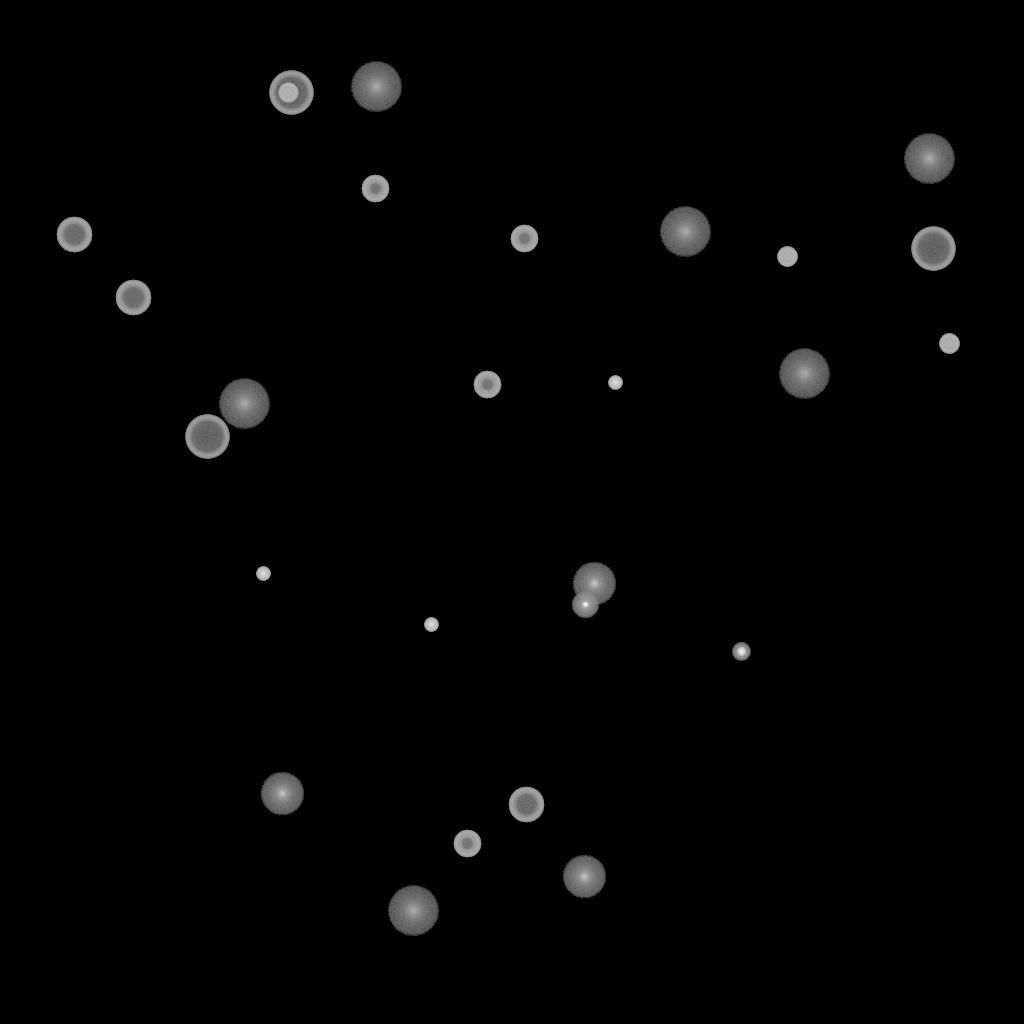depth:-10: (571, 591, 599, 619)
depth:-20: (732, 643, 750, 661)
depth:-30: (256, 567, 270, 581), (424, 618, 438, 632), (608, 376, 622, 390)
depth:-40: (278, 83, 298, 103), (939, 334, 959, 354), (777, 247, 797, 267)
depth:-50: (453, 830, 481, 858), (510, 225, 538, 253), (473, 371, 501, 399), (361, 175, 389, 203)
depth:-60: (115, 280, 151, 316), (508, 787, 544, 823), (56, 217, 92, 253)
depth:-70: (911, 227, 955, 271), (185, 415, 229, 459), (269, 71, 313, 115)
depth:10: (562, 855, 606, 899), (260, 772, 304, 816), (572, 562, 616, 606)
depth:20: (218, 379, 270, 429), (903, 134, 955, 184), (387, 886, 439, 936), (350, 62, 402, 112), (659, 207, 711, 257), (778, 349, 830, 399)
